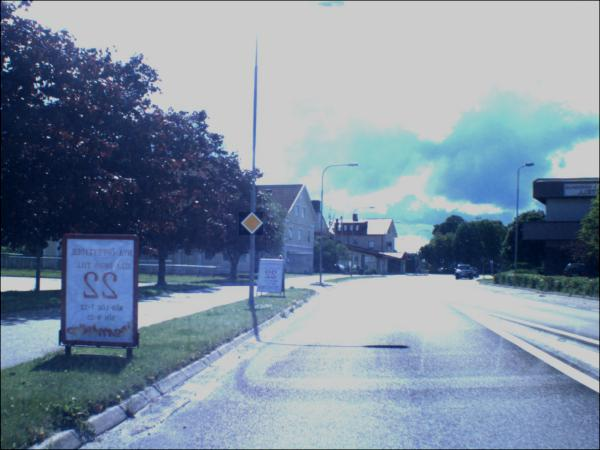PASS_RIGHT_SIDE: (453, 263, 457, 267)
PEDESTRIAN_CROSSING: (422, 260, 426, 264), (490, 262, 494, 266), (441, 261, 444, 264)
PRIORITY_ROAD: (239, 213, 264, 237)
